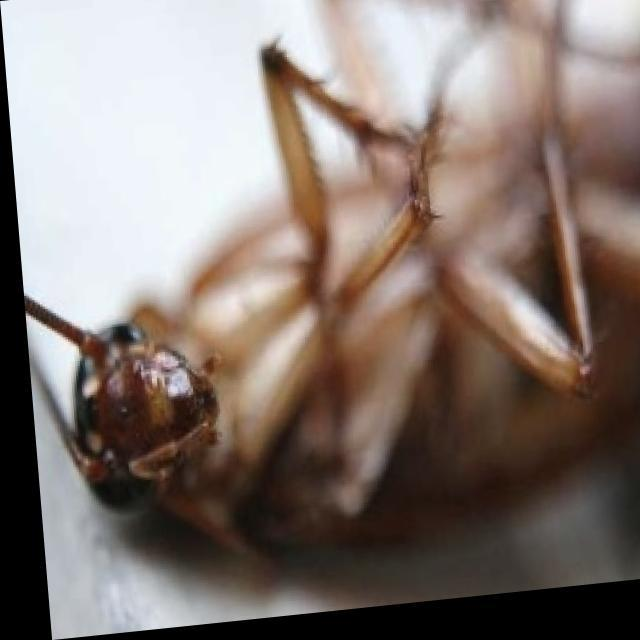cockroach: (22, 20, 609, 561)
